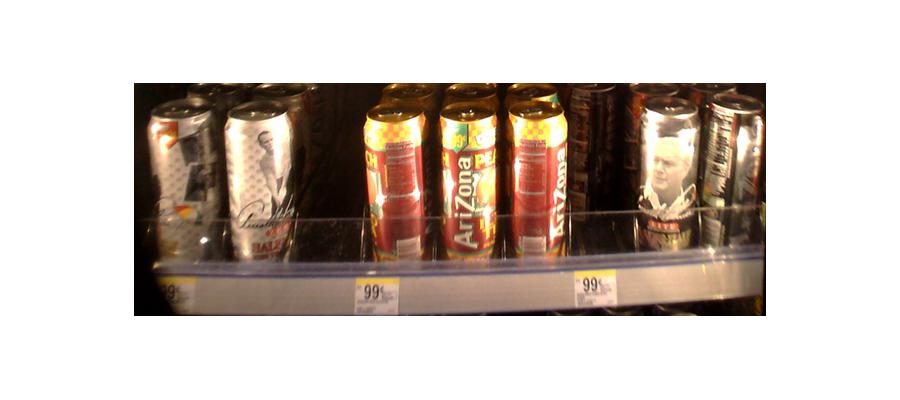bottle: (224, 101, 294, 268), (151, 101, 218, 269), (366, 104, 430, 267), (506, 95, 568, 261), (436, 102, 500, 262), (704, 89, 764, 254), (639, 93, 699, 254)
